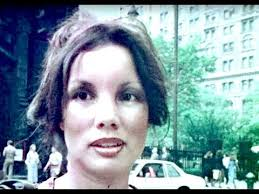no-mask: (48, 29, 154, 180)
